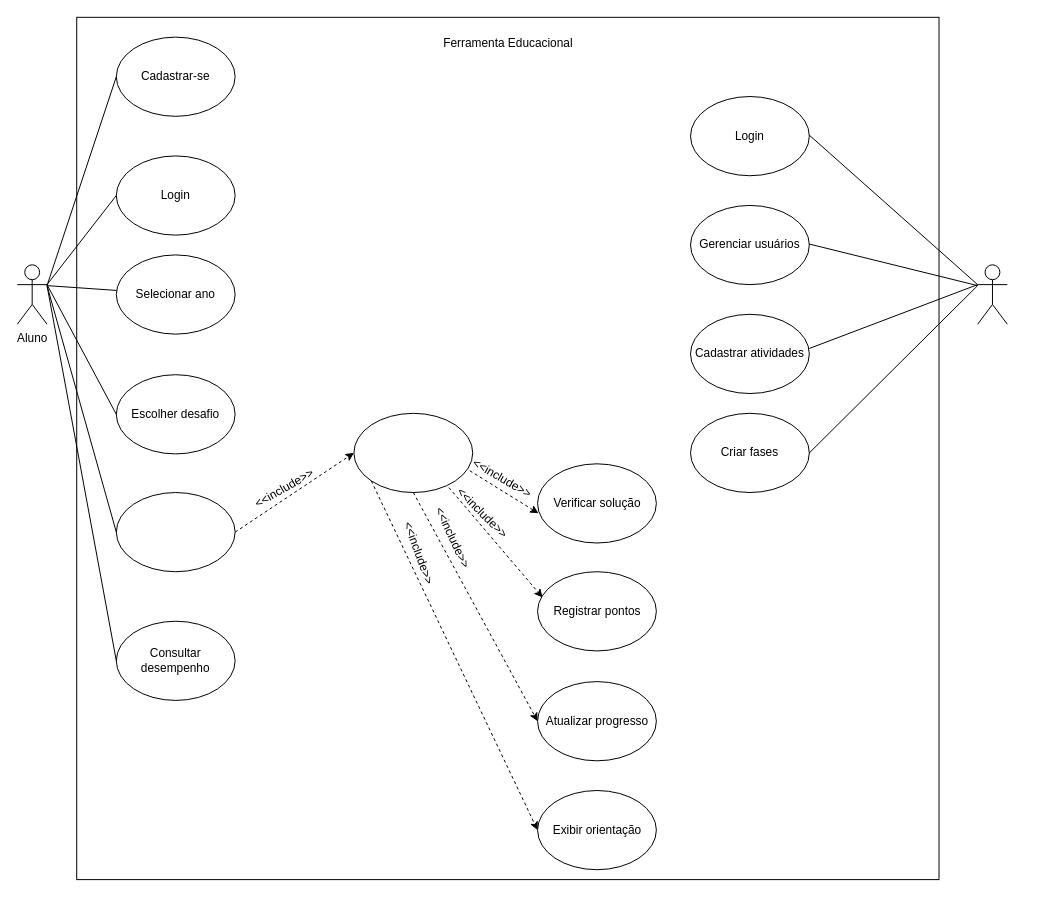
Some shapes in this 1046 by 897 pixel diagram are drawn without their labels. Here are the shapes that lost their labels. From the top down, the centre of each, then its label:
pixel 992 294: Administrador
pixel 413 452: Montar solução em blocos
pixel 175 532: Resolver atividade
